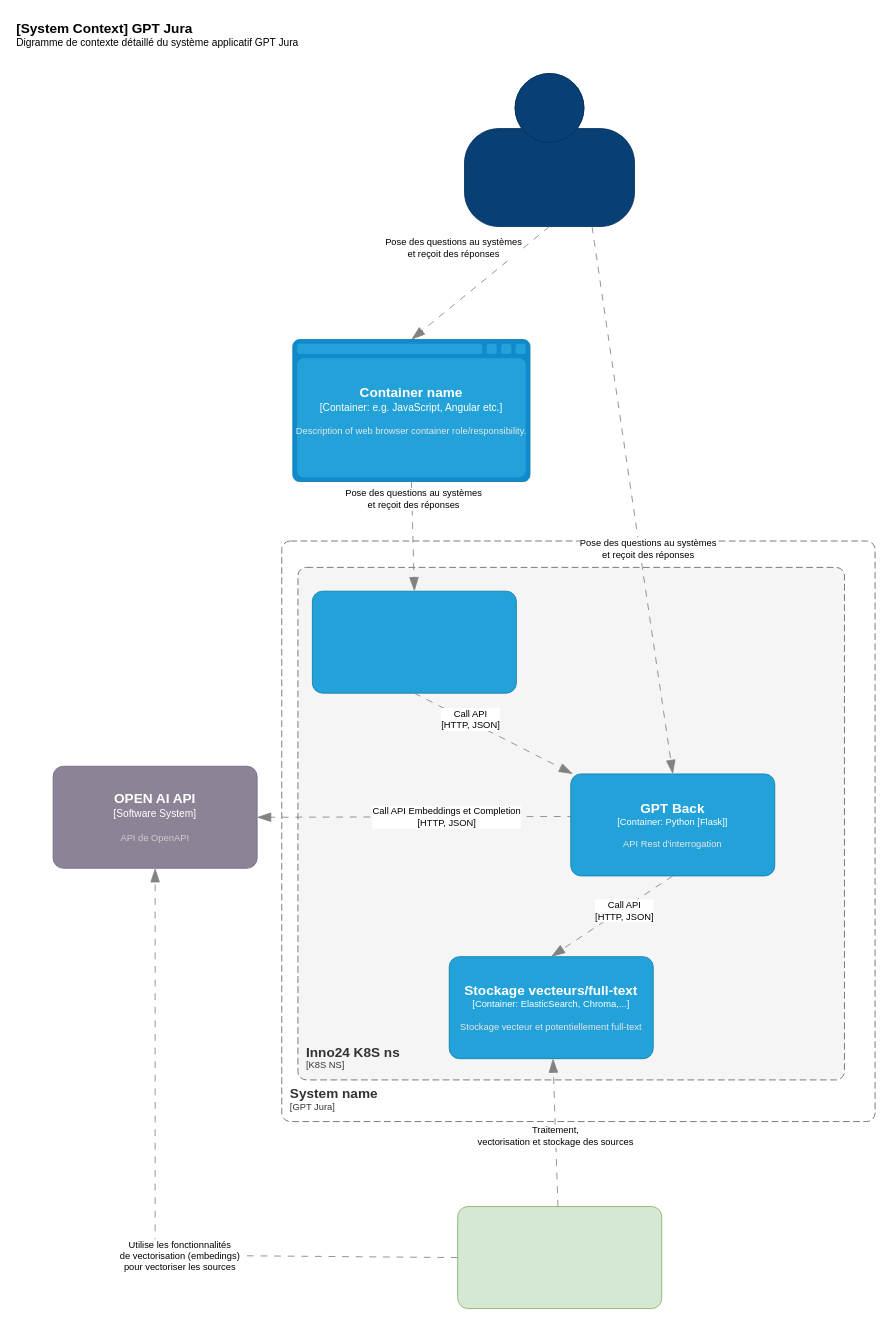
Image size: 890x1323. Some labels were removed from this diagram. The centre of each missing label's shape, as x and y in pixels:
GPT UI [Container: React] Interface utilisateur: point 414,641
Jura Indexer [Software System] Processus d'indexation documentaire: point 559,1257
Utilisateur [Person] Utilisateur public du chat: point 549,150
